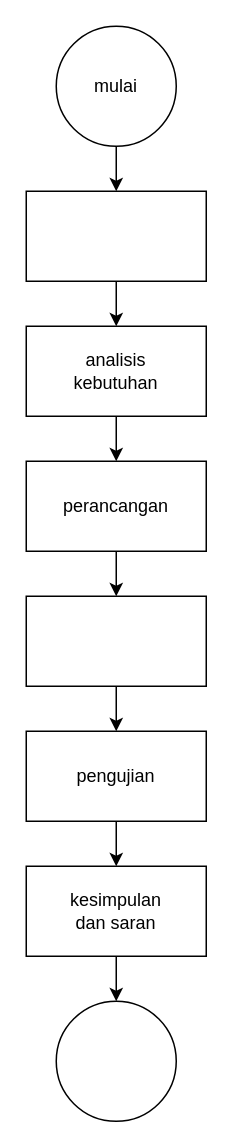
The diagram is 233 pixels wide and 1148 high, and some of its shapes have lost their labels. Each missing label, with the centre of its shape:
"implementasi" goes at point (115, 640).
"selesai" goes at point (115, 1060).
"studi literatur" goes at point (115, 235).
